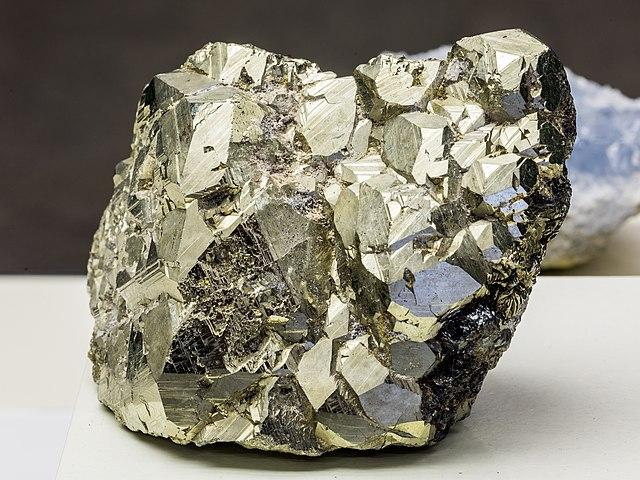pyrite: (79, 27, 585, 456)
